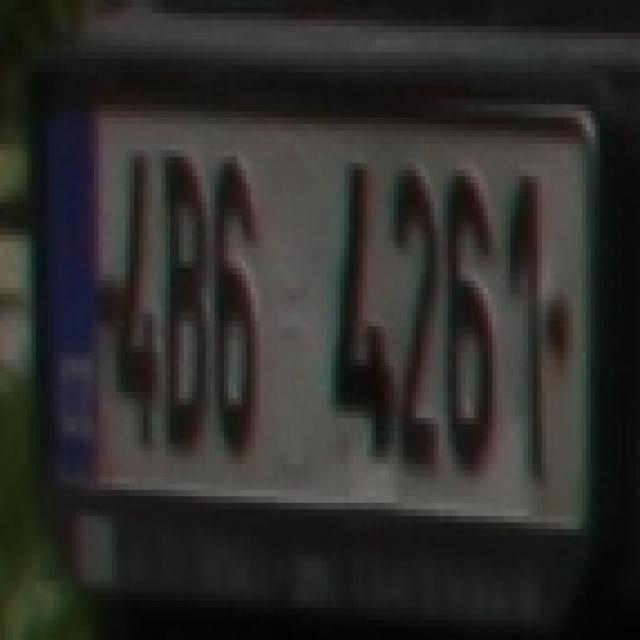1: (501, 164, 542, 484)
2: (381, 157, 438, 470)
4: (331, 156, 394, 464), (103, 156, 157, 464)
6: (434, 157, 501, 470), (201, 150, 264, 464)
B: (156, 150, 214, 451)
